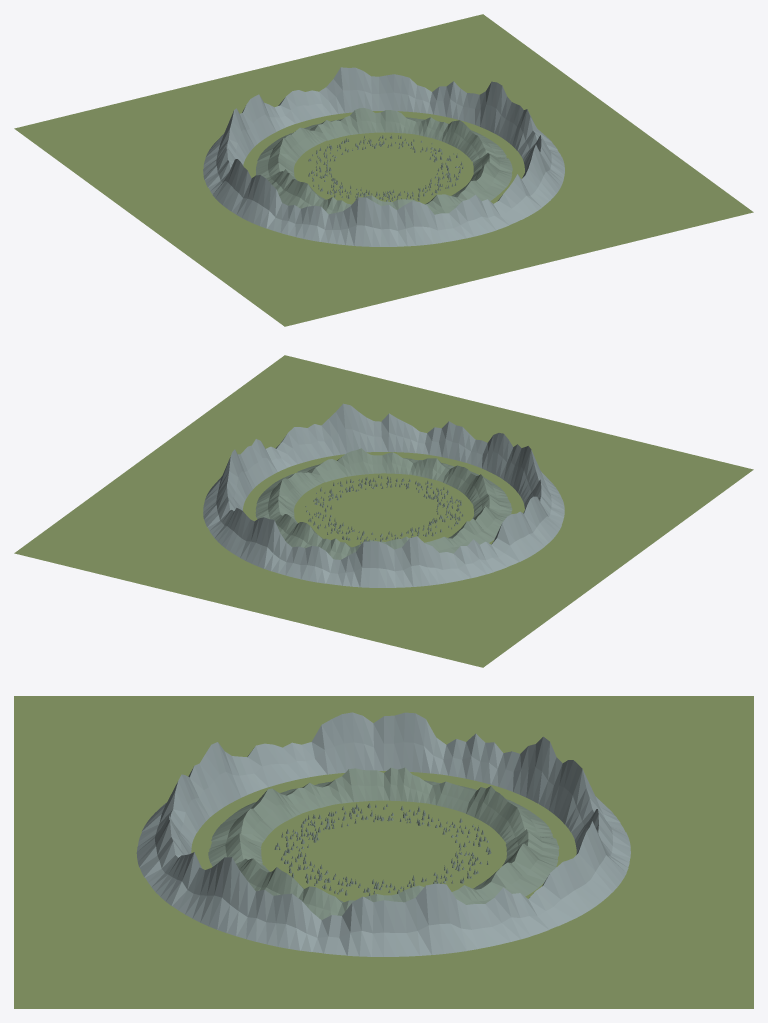
The model's file is distant_3_v1.glb.
3 renders of one model, top to bottom at view 1: azimuth 30°, elevation 25°; view 2: azimuth 150°, elevation 25°; view 3: azimuth 270°, elevation 25°, orthographic. The views are drawn at different scales.
Visible parts, largest first — view 1: DISTANT_ground, DISTANT_far, DISTANT_near; view 2: DISTANT_ground, DISTANT_far, DISTANT_near; view 3: DISTANT_ground, DISTANT_far, DISTANT_near.
Part boxes in pixels (x1=…): DISTANT_ground: x1=14, y1=14, x2=753, y2=326; DISTANT_far: x1=203, y1=67, x2=564, y2=246; DISTANT_near: x1=256, y1=108, x2=512, y2=214; DISTANT_ground: x1=14, y1=355, x2=753, y2=667; DISTANT_far: x1=203, y1=403, x2=564, y2=587; DISTANT_near: x1=255, y1=448, x2=512, y2=559; DISTANT_ground: x1=14, y1=696, x2=753, y2=1008; DISTANT_far: x1=136, y1=712, x2=630, y2=956; DISTANT_near: x1=208, y1=767, x2=559, y2=920.
Bounding box in the file's own units: 2100 × 189 × 2100.
